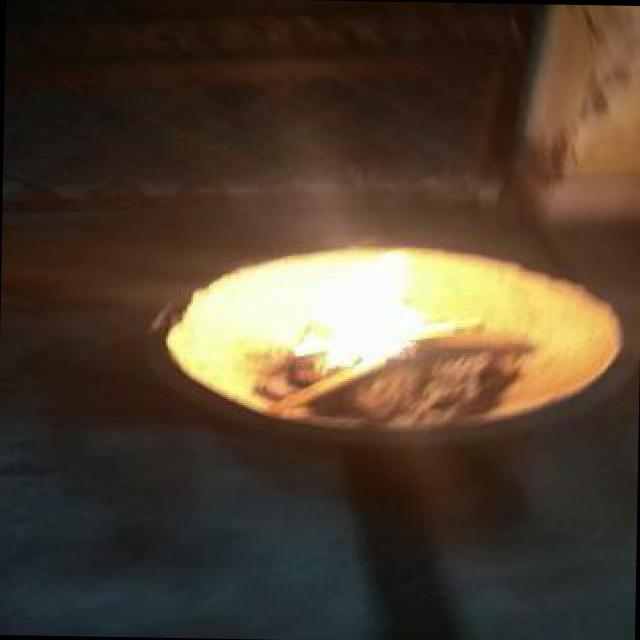fire: (219, 242, 457, 386)
